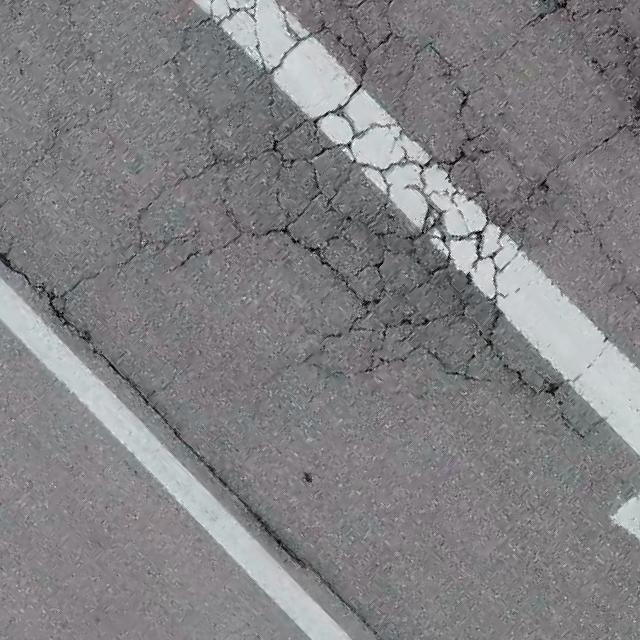GRIETA: (50, 303, 368, 628), (0, 253, 45, 296)
PIEL DE COCODRILO: (0, 0, 639, 448)
